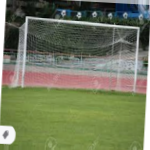goals: (14, 14, 141, 96)
